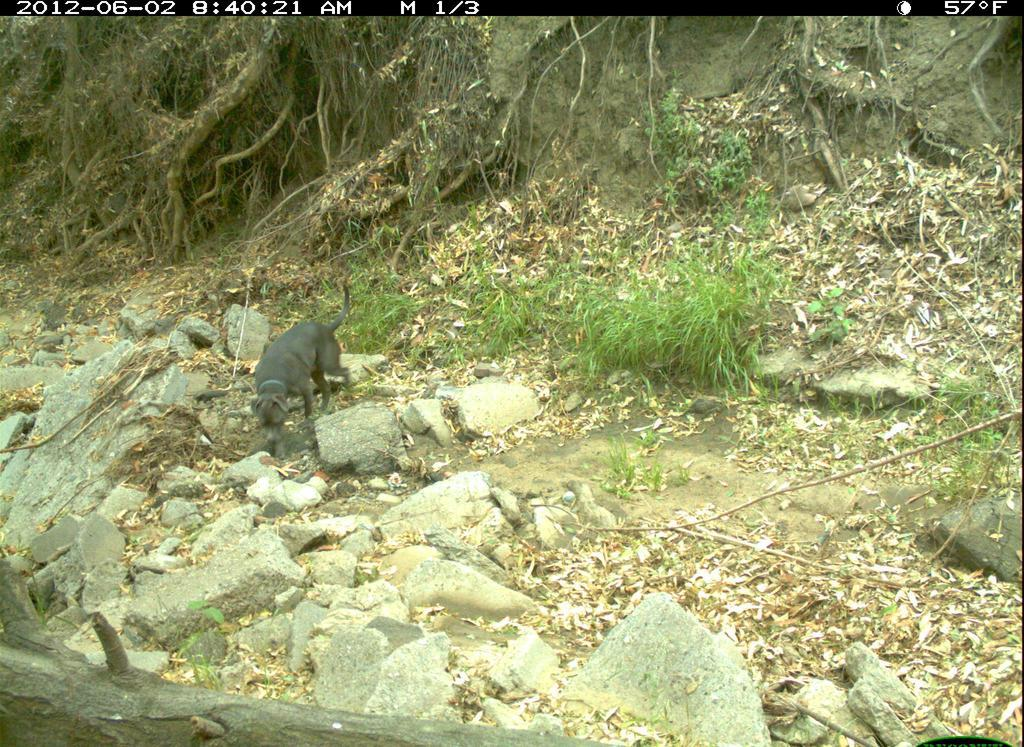dog: (248, 283, 363, 455)
